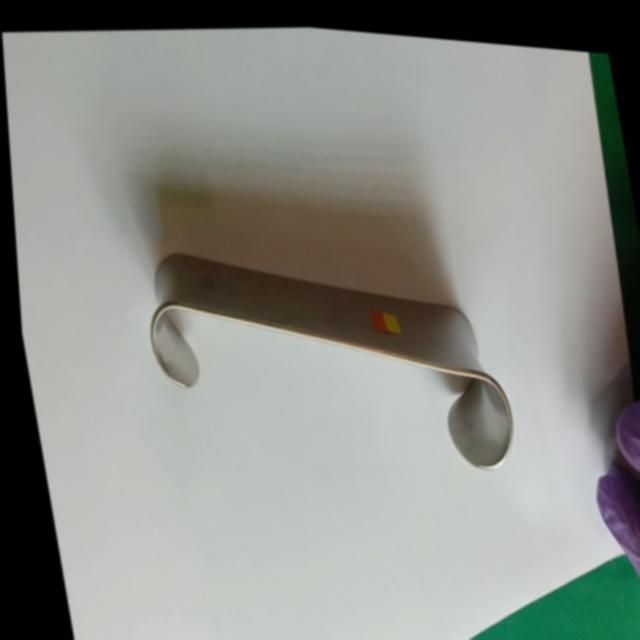CheekRetractor: (128, 208, 518, 502)
